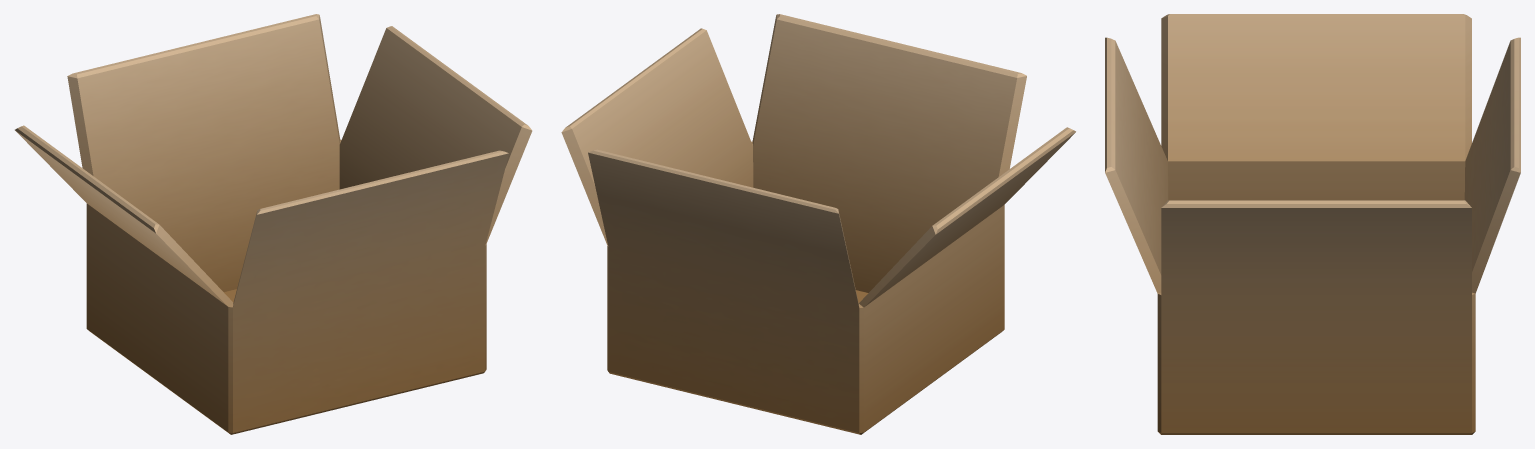
The model's file is CardboardBox2.fbx.
The picture shows the model from 3 angles, left to right: view 1: azimuth 30°, elevation 25°; view 2: azimuth 150°, elevation 25°; view 3: azimuth 270°, elevation 25°; orthographic projection. The views are drawn at different scales.
Parts seen in each view (by area): view 1: Box2; view 2: Box2; view 3: Box2.
Part boxes in pixels (x1,y1,x2,y2): Box2: [15, 14, 532, 434]; Box2: [561, 14, 1075, 434]; Box2: [1105, 14, 1520, 434].
Size of the model in its own units: 150 by 91.87 by 131.
